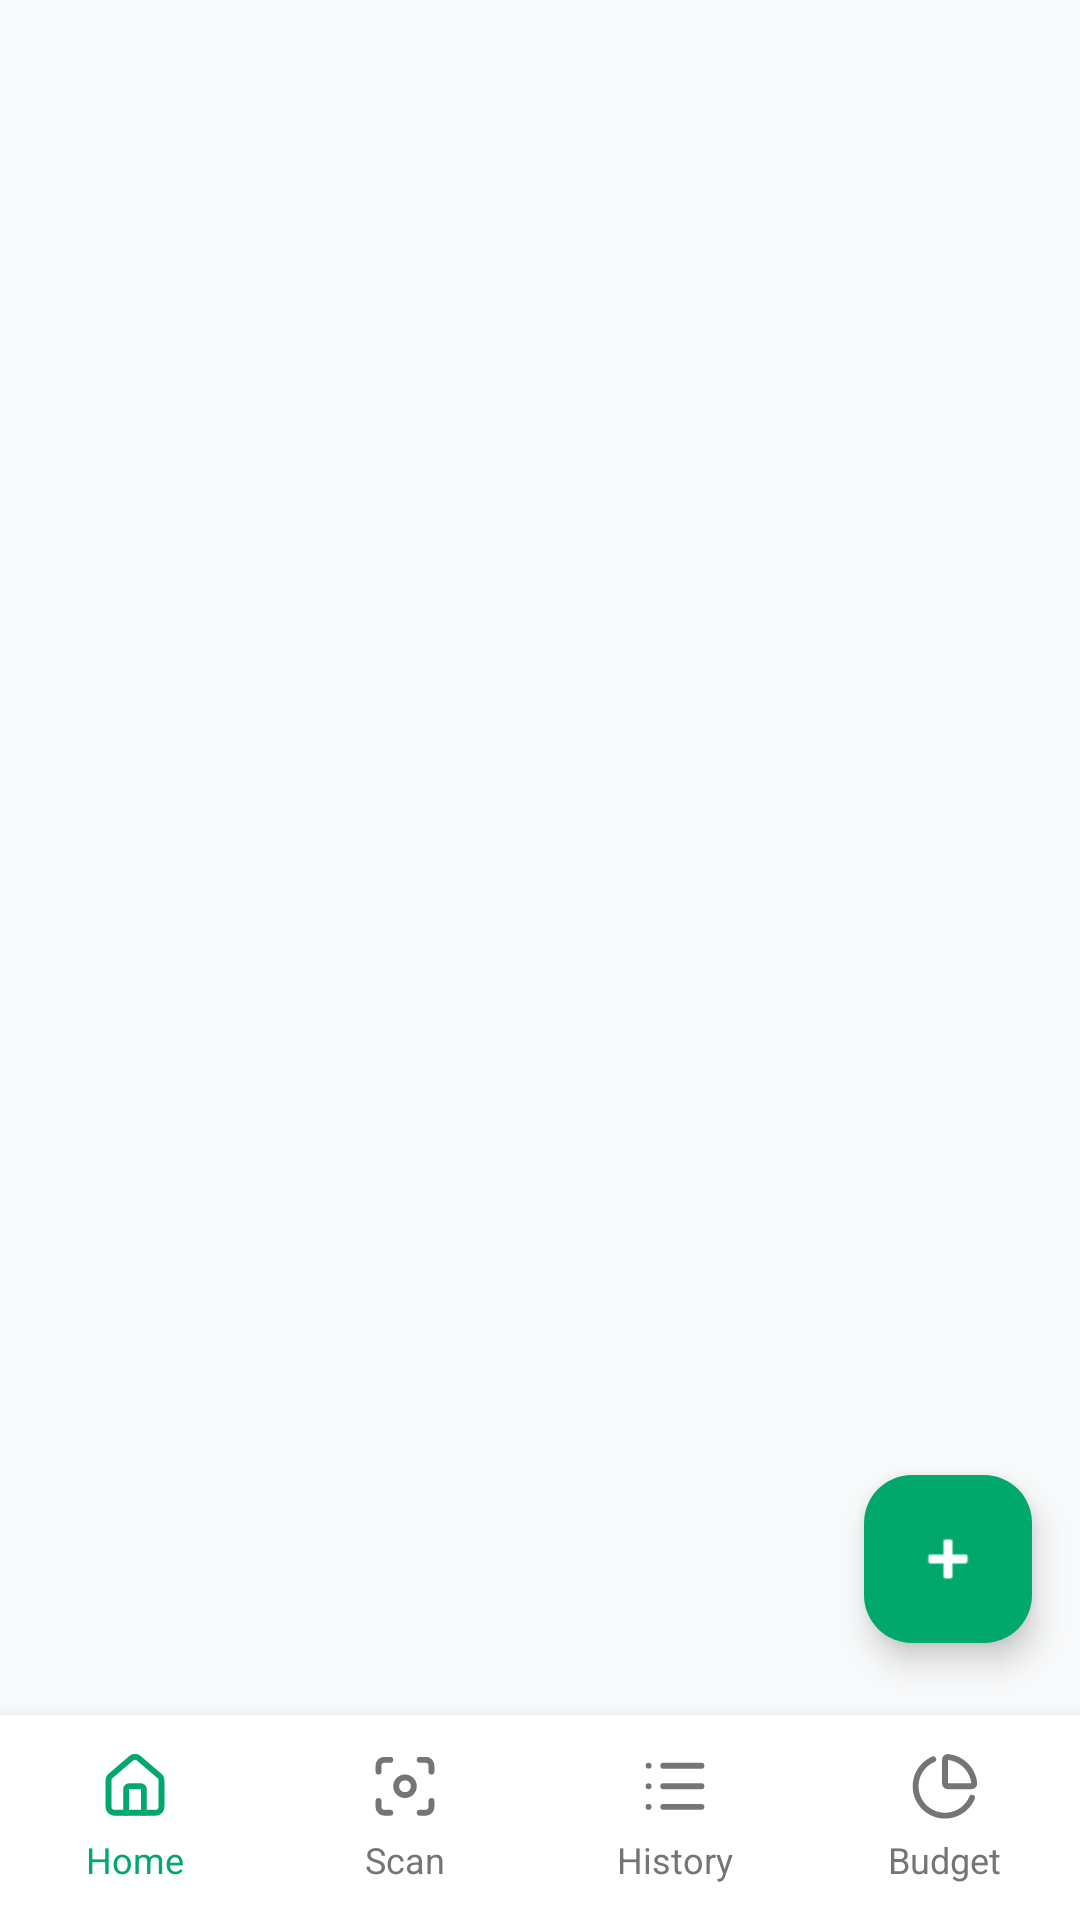

Point at icon controls on the screen. Image size 1080px×1920px, points as [x,y].
add: [948,1559]
list: [675,1786]
pie: [944,1786]
